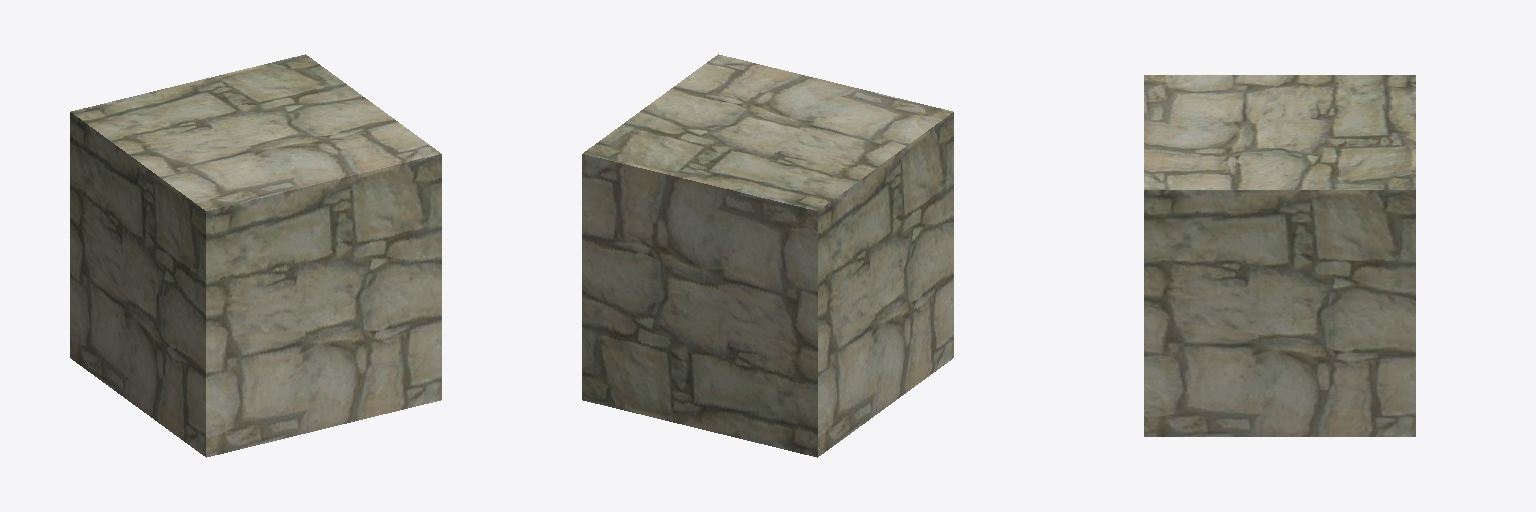
The picture shows the model from 3 angles: view 1: azimuth 30°, elevation 25°; view 2: azimuth 150°, elevation 25°; view 3: azimuth 270°, elevation 25°; orthographic projection.
Visible parts, largest first — view 1: Cube; view 2: Cube; view 3: Cube.
Boxes of the visible parts, box(x1,y1,x2,y2) form: Cube: box(70, 54, 441, 457); Cube: box(582, 54, 953, 457); Cube: box(1144, 75, 1415, 436).
Bounding box in the file's own units: 1 × 1 × 1.
Materials: 1 (1 with a texture image).